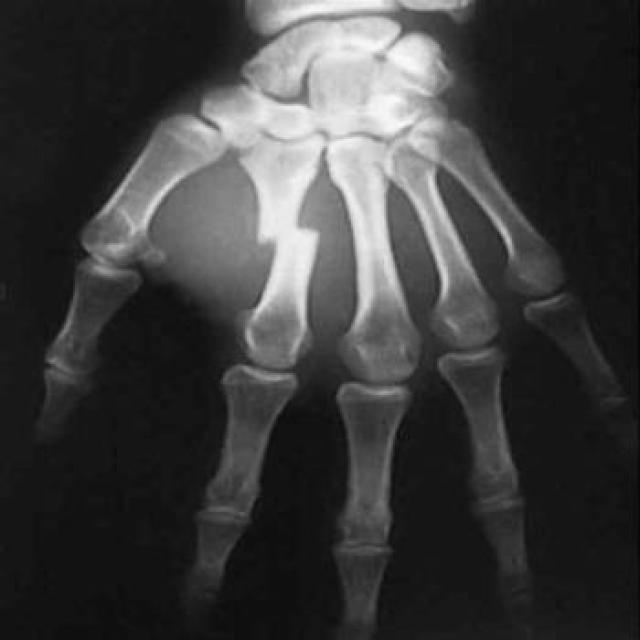Fracture: (239, 219, 332, 256)
